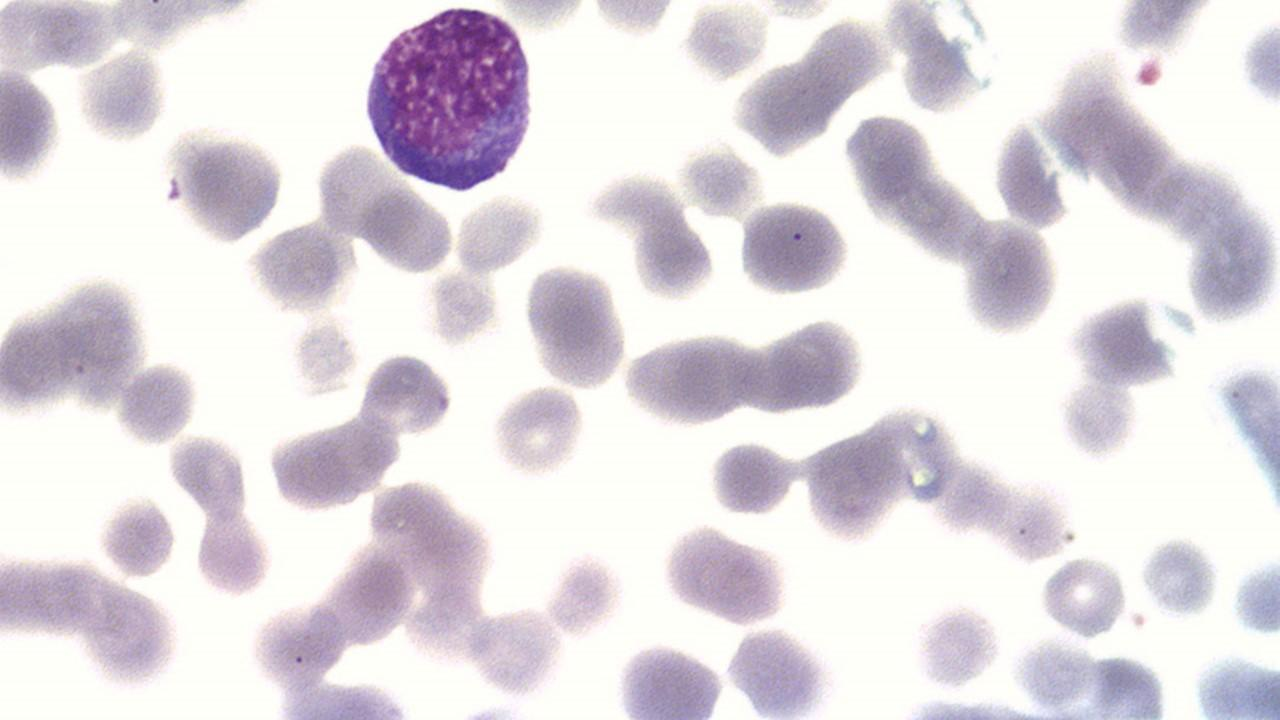Platelets: (1066, 300, 1184, 390), (724, 627, 839, 715), (910, 600, 1000, 692), (1138, 532, 1220, 622), (1057, 376, 1139, 464), (1190, 654, 1280, 716), (1236, 17, 1280, 113), (1229, 559, 1279, 637)
WBC: (358, 1, 539, 192)
